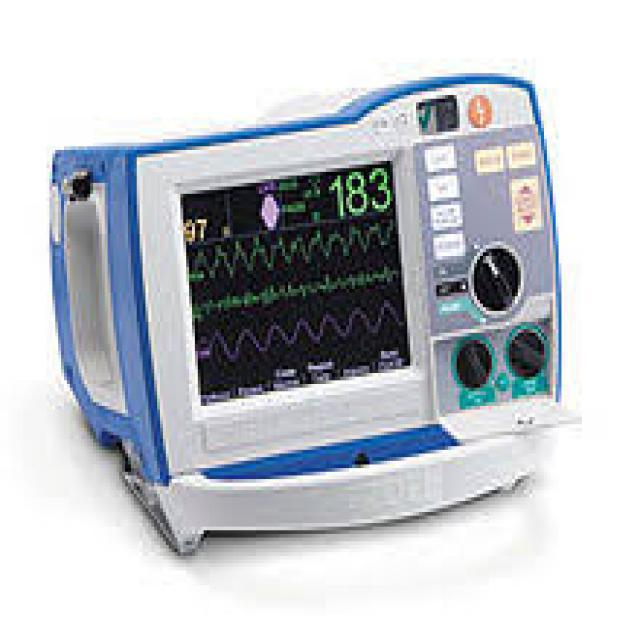cardiac_monitor: (125, 150, 576, 498)
